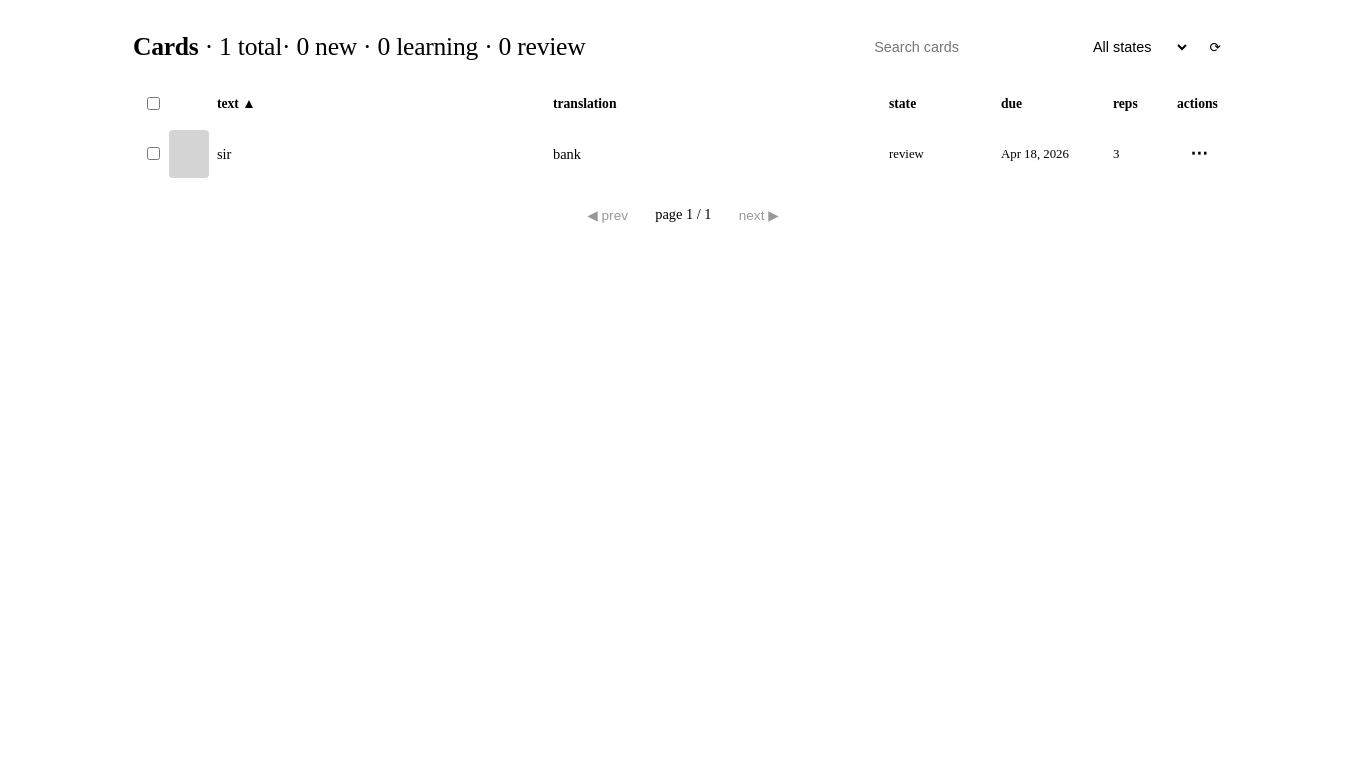
Test: cards/+page.svelte › shows error when deleteItem fails with non-Error
Check: the text "sir" is shown, box 217,146 -> 231,162
What coordinates should you click on to do the following:
click the button "⋯"
I would click on:
 (1199, 154)
Its box is 1177,140 -> 1221,168.
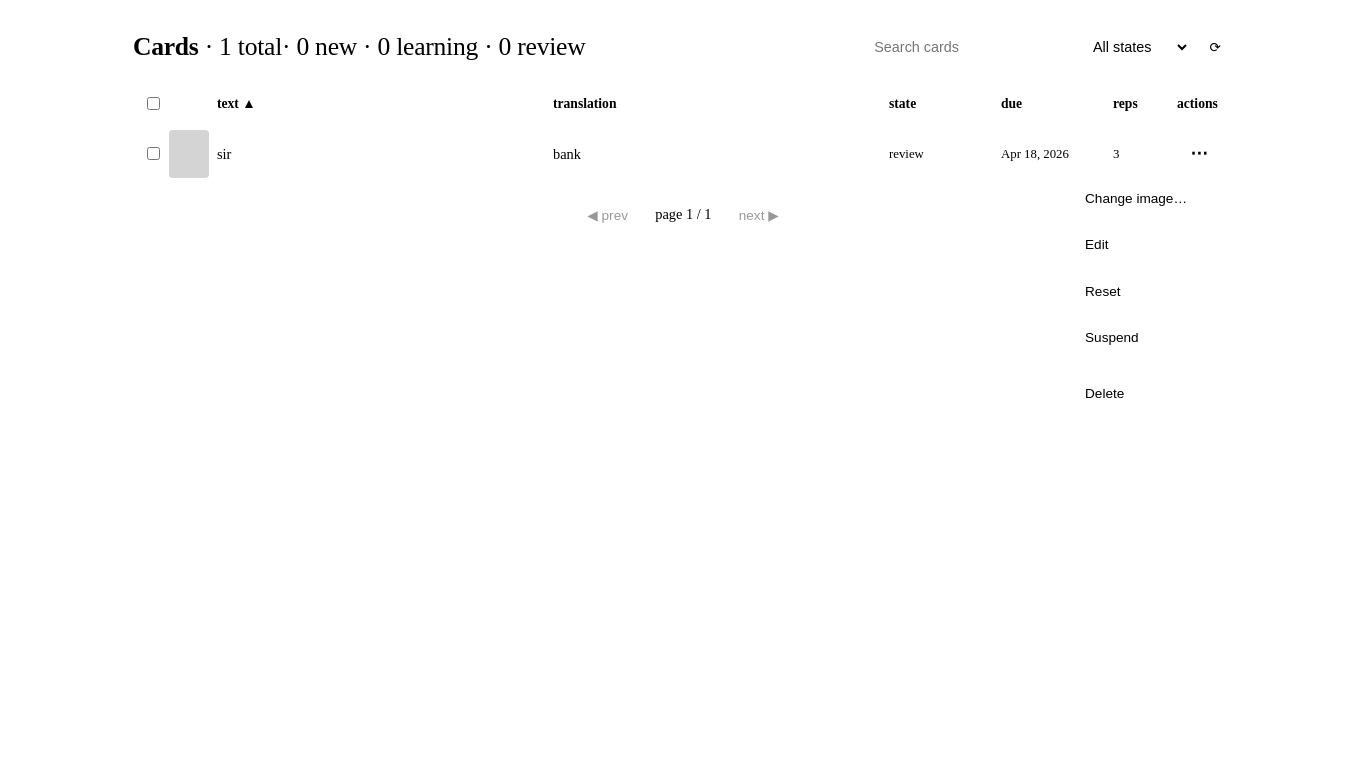
What coordinates should you click on to do the following:
click the menu item "Delete"
I would click on:
 (1145, 394)
Its box is 1073,372 -> 1217,416.
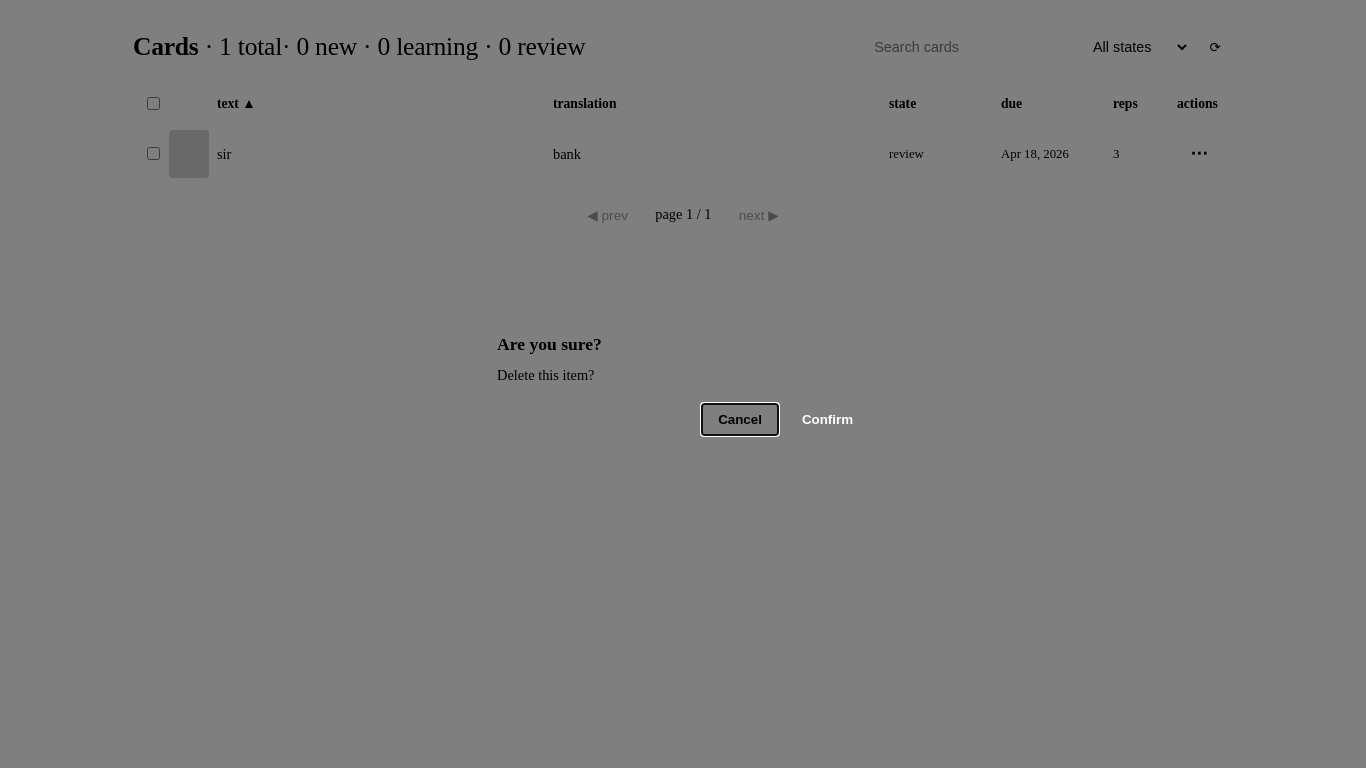
What coordinates should you click on to do the following:
click the button "Confirm"
I would click on:
 (827, 419)
Its box is 786,404 -> 869,434.
Wait 100 ms
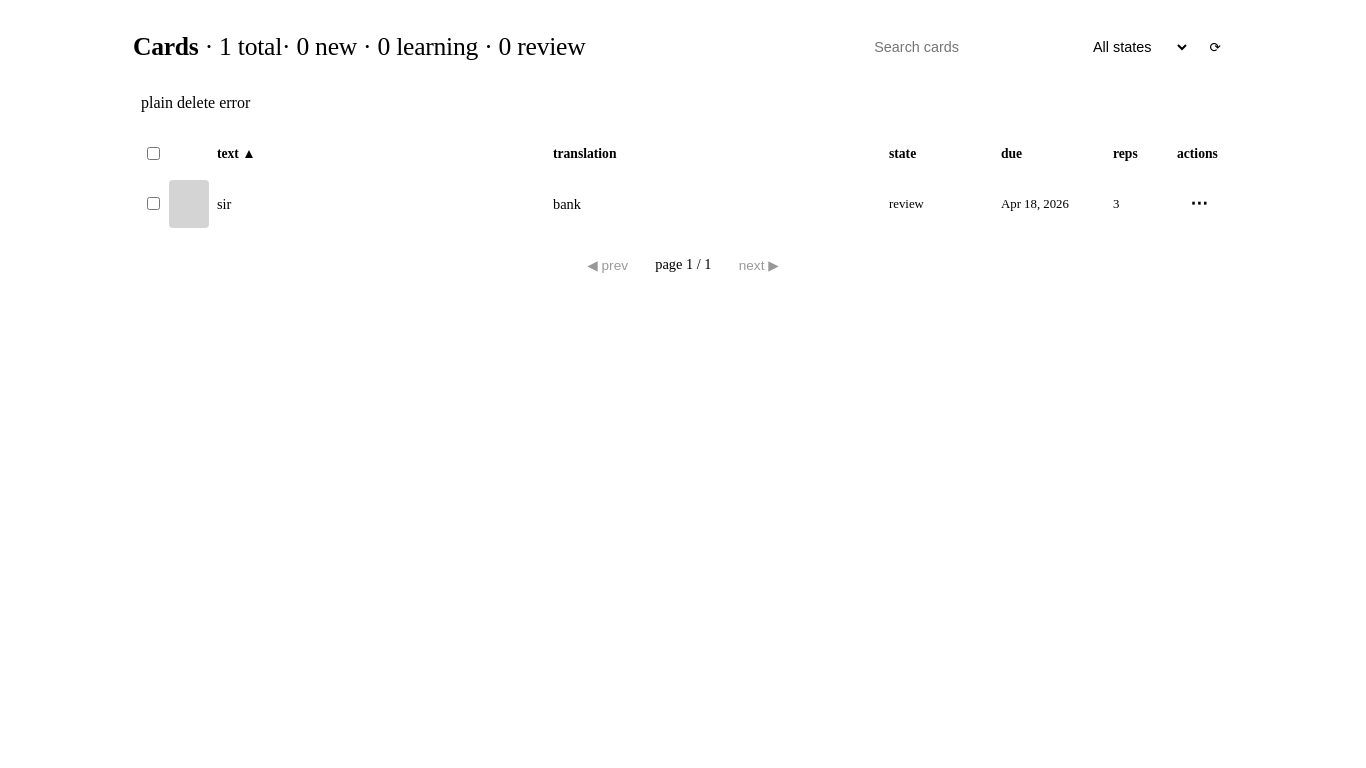
Check: the text "plain delete error" is shown, box 141,94 -> 250,111
